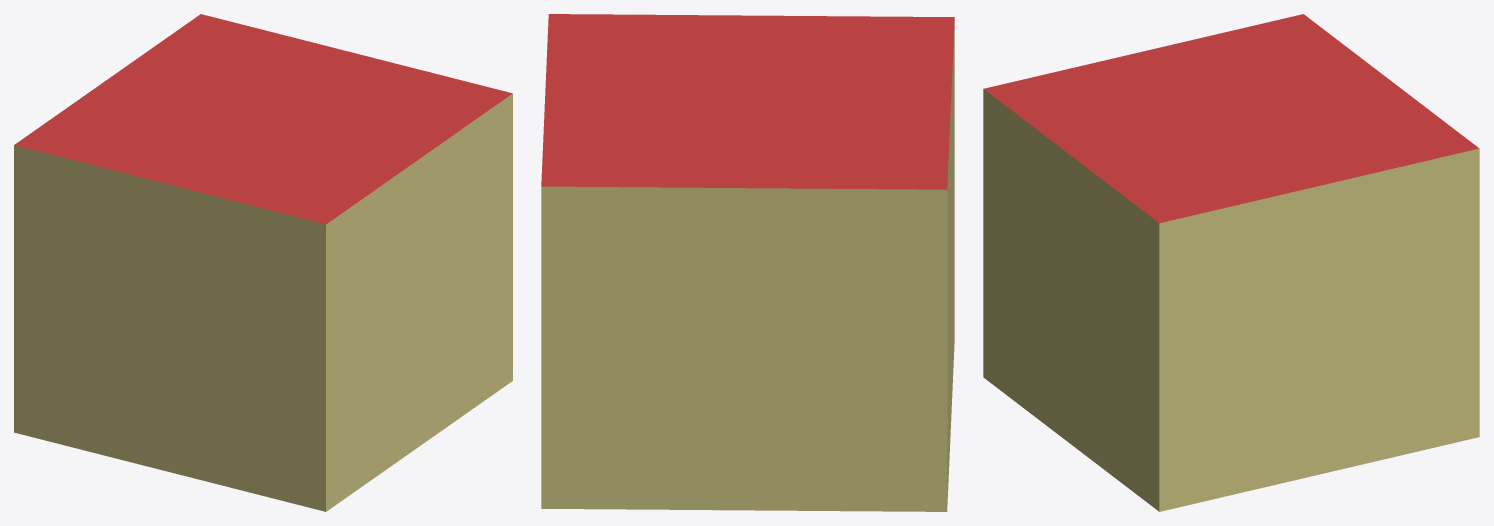
The picture shows the model from 3 angles, left to right: view 1: azimuth 30°, elevation 25°; view 2: azimuth 150°, elevation 25°; view 3: azimuth 270°, elevation 25°; orthographic projection. The views are drawn at different scales.
Size of the model in its own units: 9.59 by 9.61 by 6.17.
